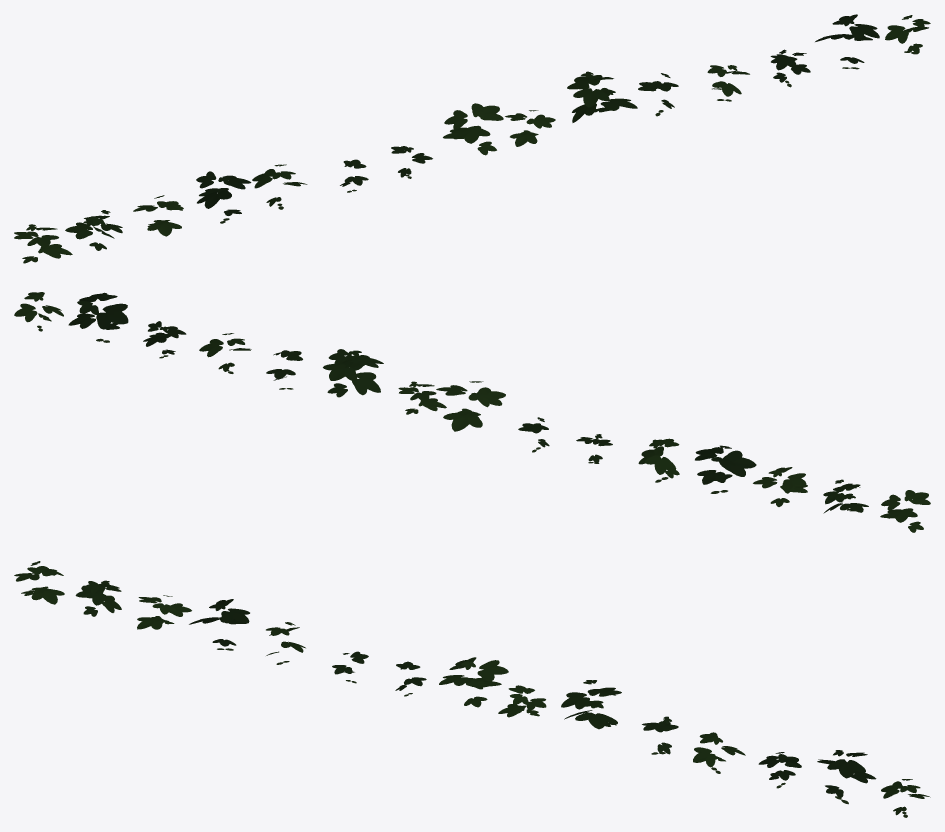
File: ROW_16_SEG1_foliage.dae
3 views of the same model, one above another, from view 1: azimuth 30°, elevation 25°; view 2: azimuth 150°, elevation 25°; view 3: azimuth 330°, elevation 25° (orthographic).
Visible parts, largest first — view 1: ROW_16_SEG1_foliage; view 2: ROW_16_SEG1_foliage; view 3: ROW_16_SEG1_foliage.
Boxes of the visible parts, x1,y1,x2,y2 form: ROW_16_SEG1_foliage: [14, 14, 930, 263]; ROW_16_SEG1_foliage: [14, 292, 930, 532]; ROW_16_SEG1_foliage: [14, 561, 930, 817].
Bounding box in the file's own units: 4.46 × 0.3249 × 0.2647.
